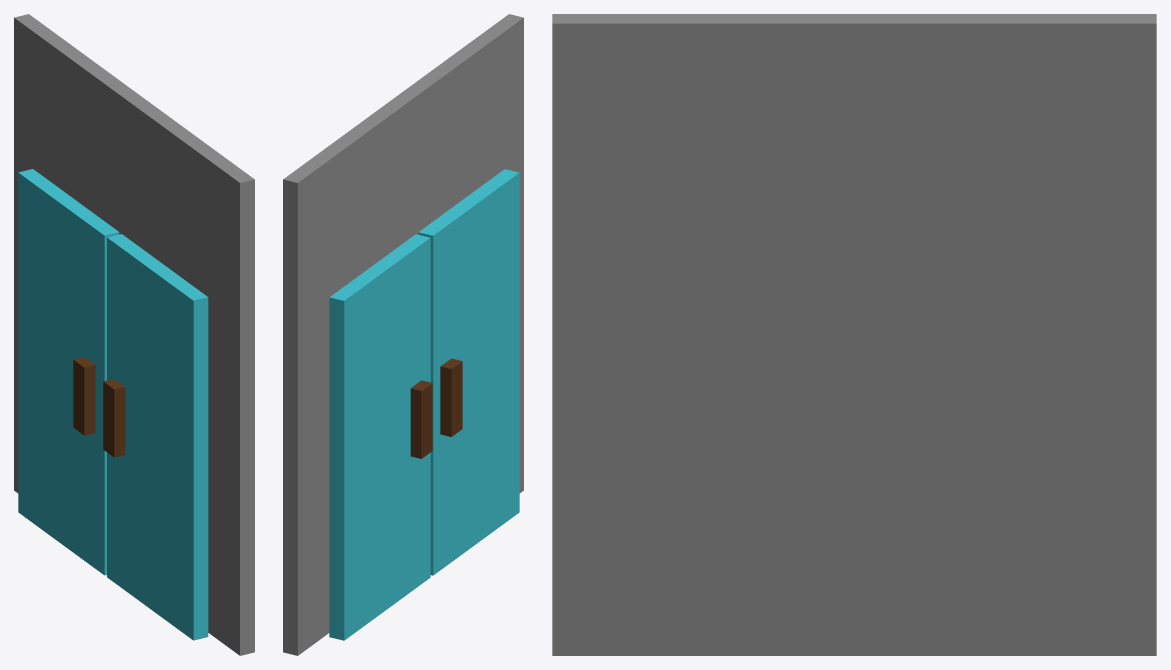
File: exit_door.fbx
3 renders of one model, left to right at view 1: azimuth 30°, elevation 25°; view 2: azimuth 150°, elevation 25°; view 3: azimuth 270°, elevation 25°, orthographic. The views are drawn at different scales.
Visible parts, largest first — view 1: Cube, Cube.002, Cube.001, Cube.004, Cube.003; view 2: Cube, Cube.001, Cube.002, Cube.003, Cube.004; view 3: Cube.
Boxes of the visible parts, box(x1,y1,x2,y2) form: Cube: box(14, 14, 254, 655); Cube.002: box(107, 234, 208, 640); Cube.001: box(18, 169, 119, 575); Cube.004: box(73, 357, 95, 435); Cube.003: box(103, 379, 125, 457); Cube: box(283, 14, 523, 655); Cube.001: box(329, 234, 430, 640); Cube.002: box(418, 169, 519, 575); Cube.003: box(440, 358, 462, 436); Cube.004: box(410, 380, 432, 458); Cube: box(552, 14, 1156, 655).
Size of the model in its own units: 49.19 by 473 by 410.
